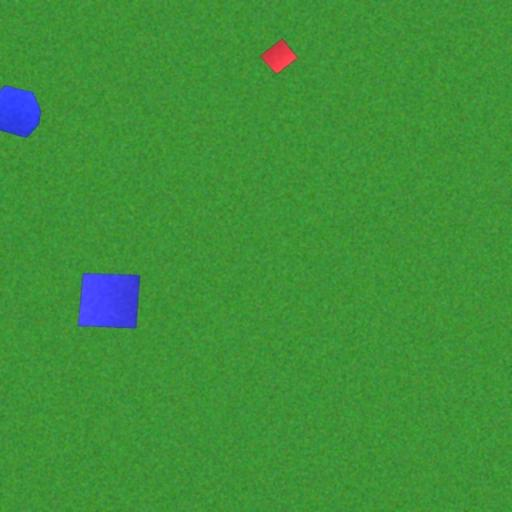BLUE_SQUARE: (78, 272, 140, 330)
RED_SQUARE: (258, 38, 298, 75)
